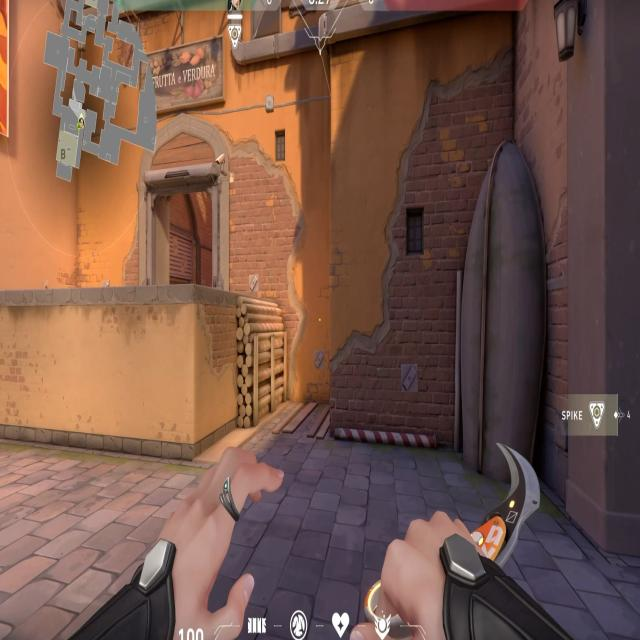B_Cubby: (179, 278, 342, 468)
